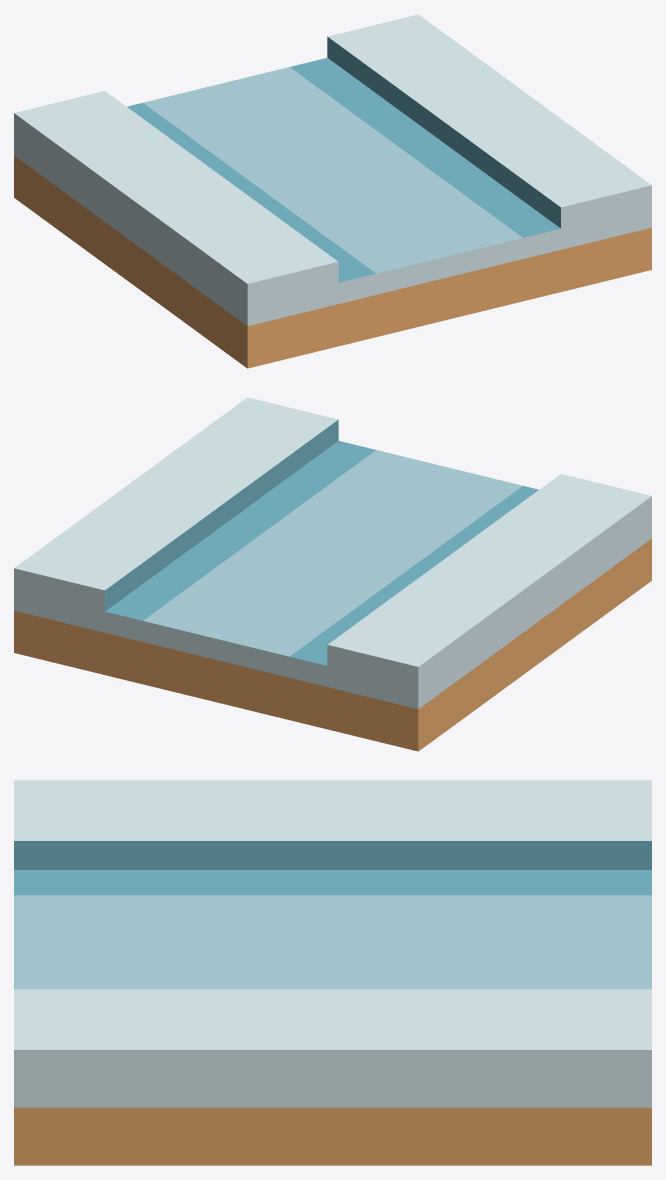
File: snowTileStraight.fbx
3 renders of one model, top to bottom at view 1: azimuth 30°, elevation 25°; view 2: azimuth 150°, elevation 25°; view 3: azimuth 270°, elevation 25°, orthographic. The views are drawn at different scales.
Visible parts, largest first — view 1: snow_tile_straight; view 2: snow_tile_straight; view 3: snow_tile_straight.
Part boxes in pixels (bbox=[...]): snow_tile_straight: bbox=[14, 14, 651, 368]; snow_tile_straight: bbox=[14, 397, 651, 751]; snow_tile_straight: bbox=[14, 780, 651, 1165].
Bounding box in the file's own units: 39.37 × 7.87 × 39.37.
